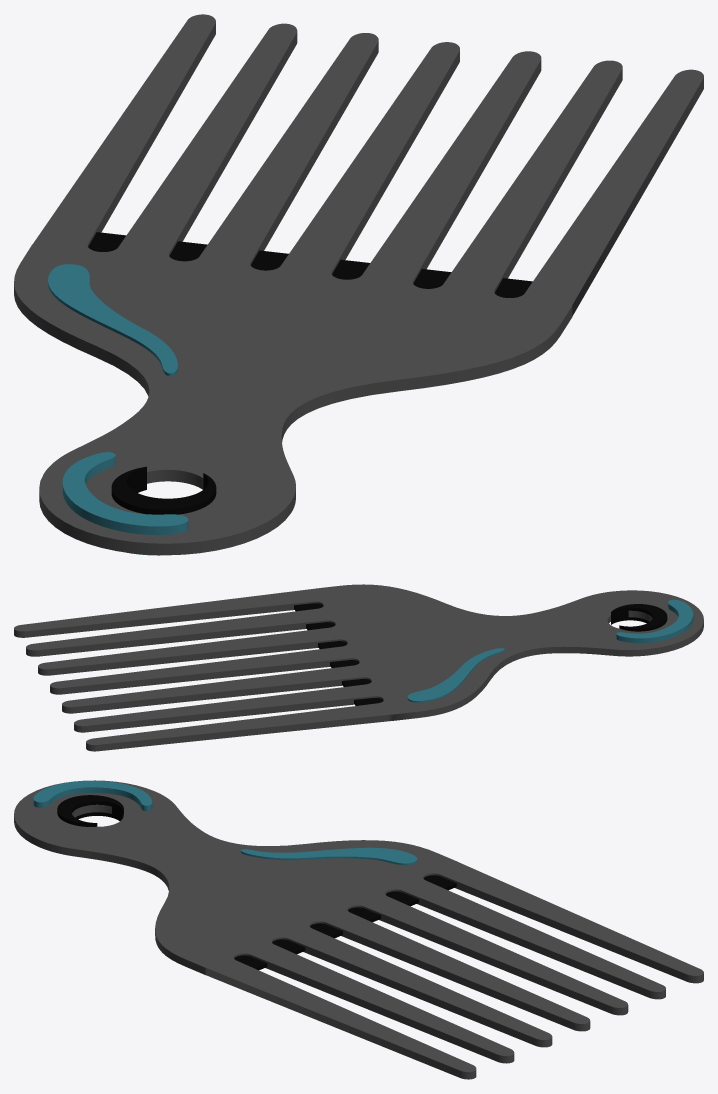
File: emoji_u1faae.glb
The picture shows the model from 3 angles, top to bottom: view 1: azimuth 30°, elevation 25°; view 2: azimuth 150°, elevation 25°; view 3: azimuth 270°, elevation 25°; orthographic projection. The views are drawn at different scales.
Parts seen in each view (by area): view 1: emoji_u1faae; view 2: emoji_u1faae; view 3: emoji_u1faae.
Part boxes in pixels (x1,y1,x2,y2): emoji_u1faae: (14,14,703,555); emoji_u1faae: (14,584,703,751); emoji_u1faae: (14,780,703,1079).
Size of the model in its own units: 0.0338 by 0.001 by 0.0338.
